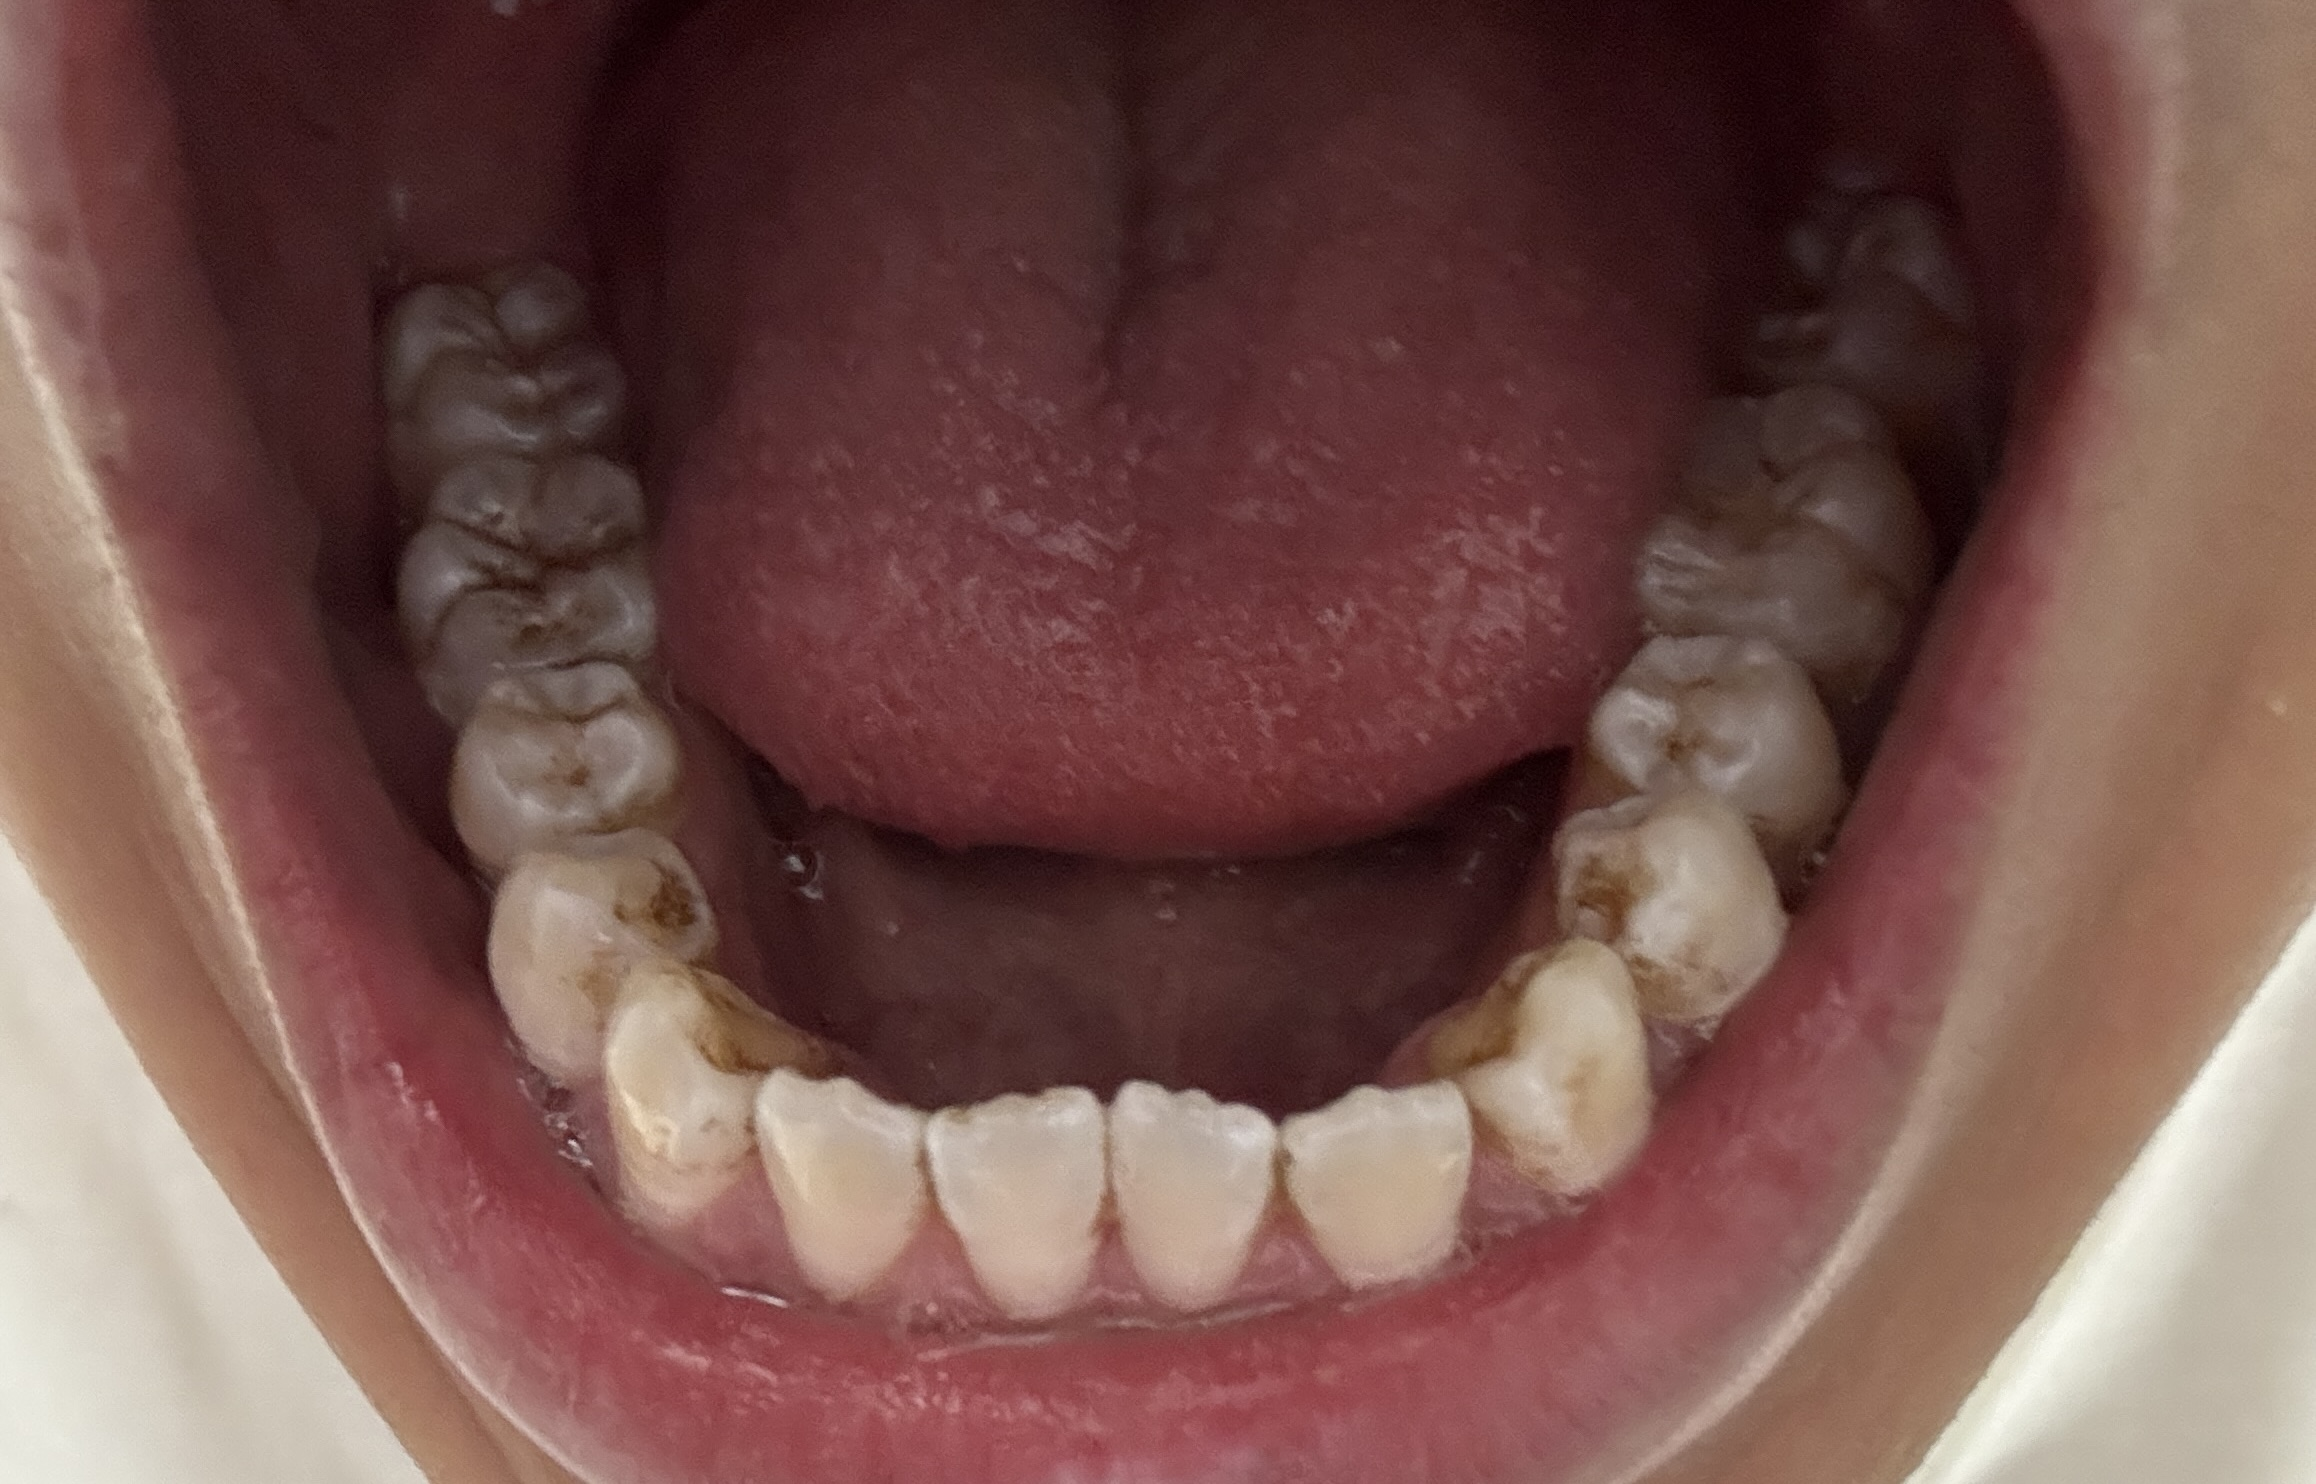teeth: (1653, 393, 1928, 694), (402, 454, 643, 701), (483, 841, 721, 1082), (611, 964, 837, 1216), (1560, 787, 1791, 1025), (1435, 942, 1644, 1202), (393, 248, 631, 468), (1599, 631, 1835, 842), (1769, 206, 1985, 410), (444, 662, 677, 851), (1283, 1087, 1465, 1292), (1107, 1082, 1268, 1312), (944, 1086, 1094, 1317), (765, 1067, 913, 1293)
